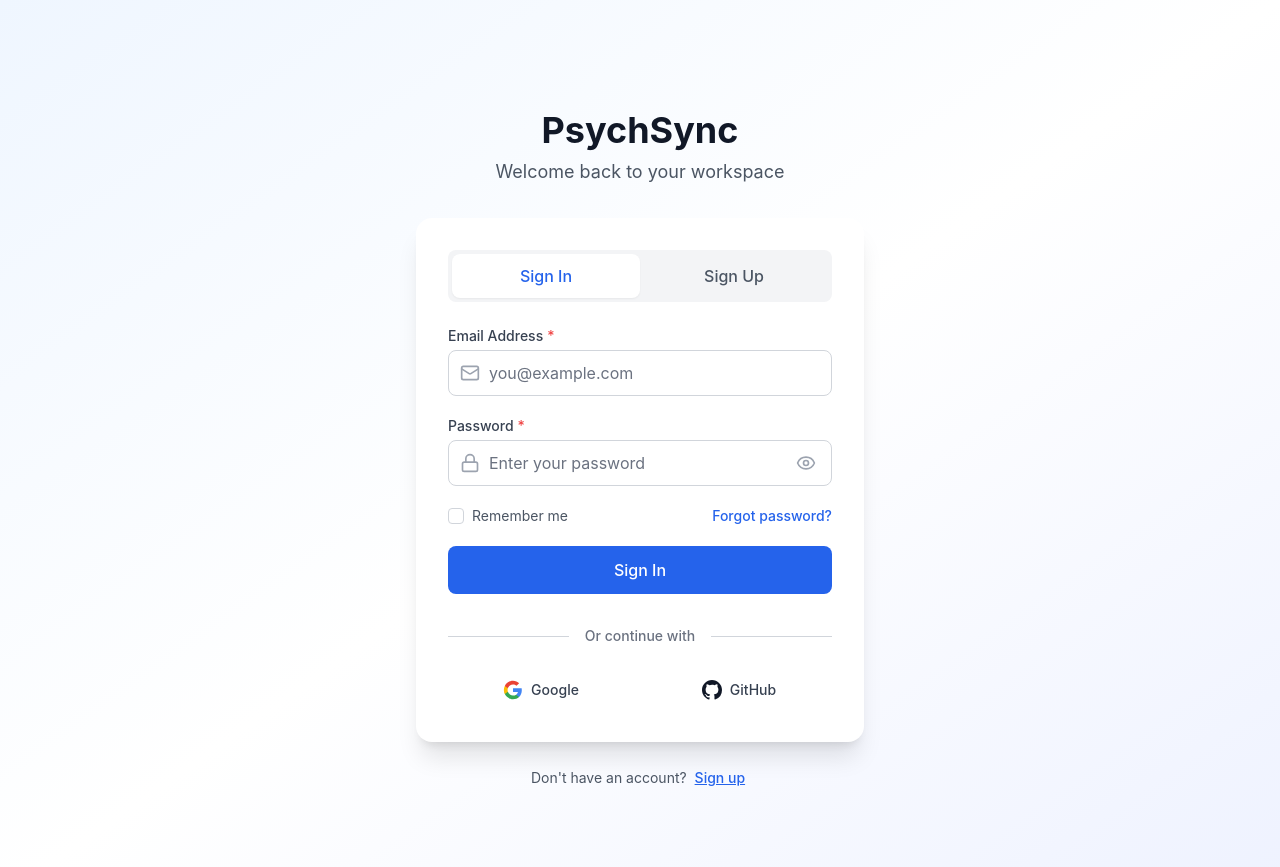
LoginSignupRefactored - Snapshots › Signup form matches snapshot
# Switch to signup form
Click the tab "Sign Up" at [734, 276], box [640, 254, 828, 298]
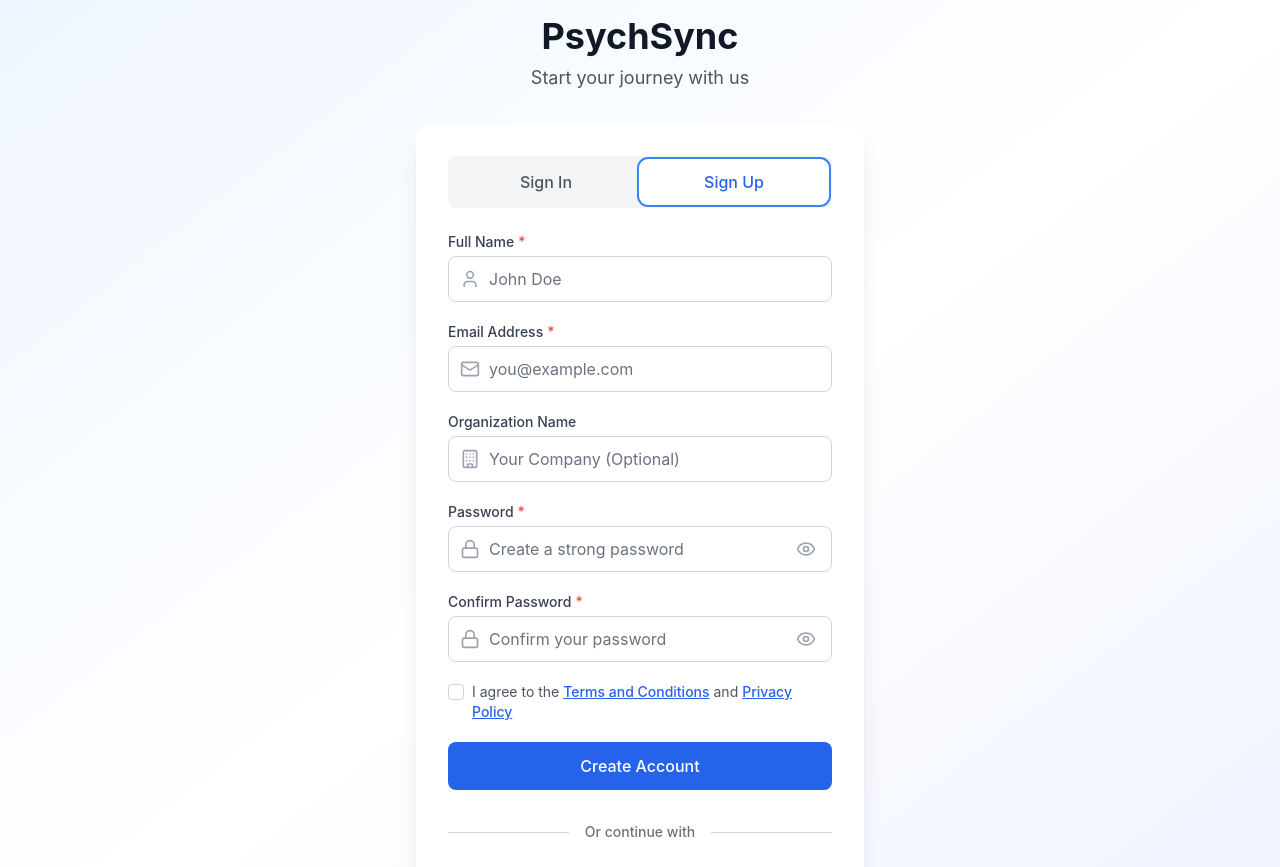
expect the field labelled "Full Name*" is shown: met, box [448, 256, 832, 302]
